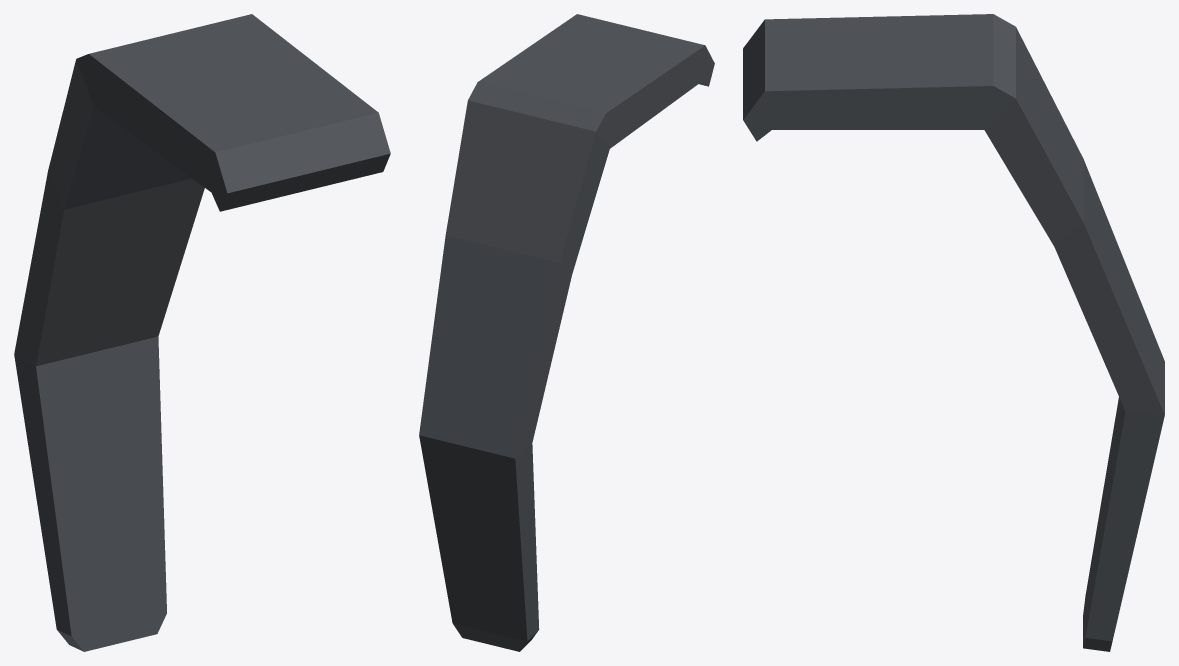
Rendered from SM_Wep_Grenade_Clip_01.fbx.
The picture shows the model from 3 angles, left to right: view 1: azimuth 30°, elevation 25°; view 2: azimuth 150°, elevation 25°; view 3: azimuth 270°, elevation 25°; orthographic projection. The views are drawn at different scales.
Visible parts, largest first — view 1: SM_Wep_Grenade_Clip_01; view 2: SM_Wep_Grenade_Clip_01; view 3: SM_Wep_Grenade_Clip_01.
Part boxes in pixels (box(x1,y1,x2,y2)): SM_Wep_Grenade_Clip_01: box(14, 14, 390, 651); SM_Wep_Grenade_Clip_01: box(419, 14, 714, 651); SM_Wep_Grenade_Clip_01: box(743, 14, 1164, 651).
Size of the model in its own units: 3.26 by 12.37 by 8.07.
